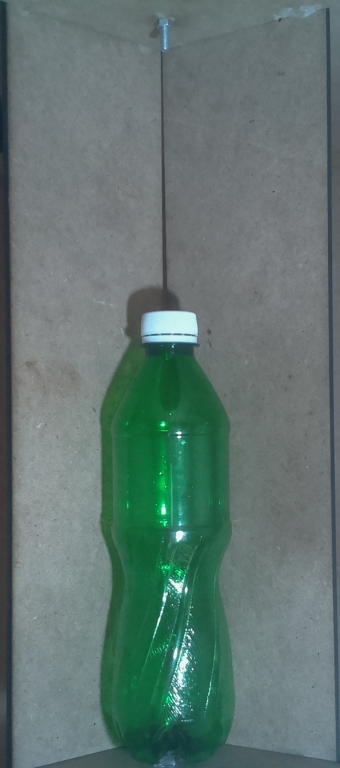Bouteille_0.5L: (96, 302, 250, 768)
